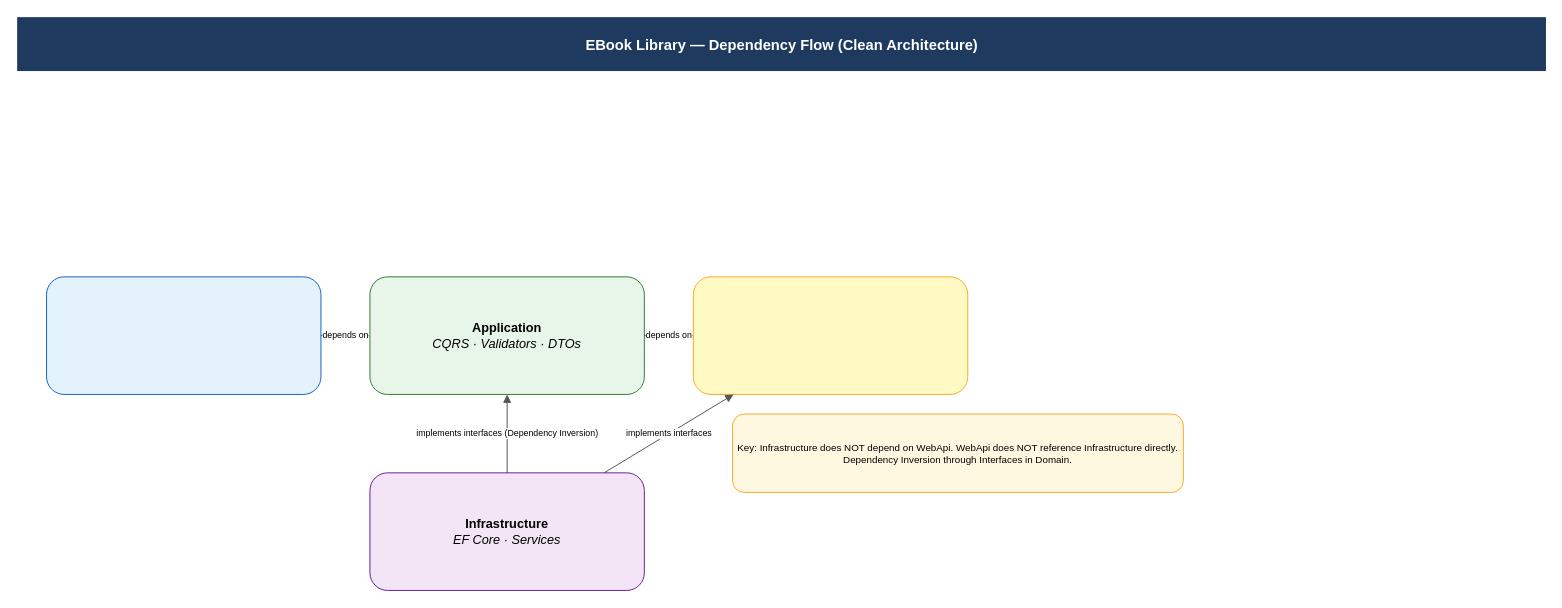
This 1562x608 diagram has some shape labels left out. Here are the shapes that lost their labels. From the top down, the centre of each, then its label:
At (183,335): "Presentation WebApi · Blazor · React".
At (830,335): "Domain Entities · Interfaces".
